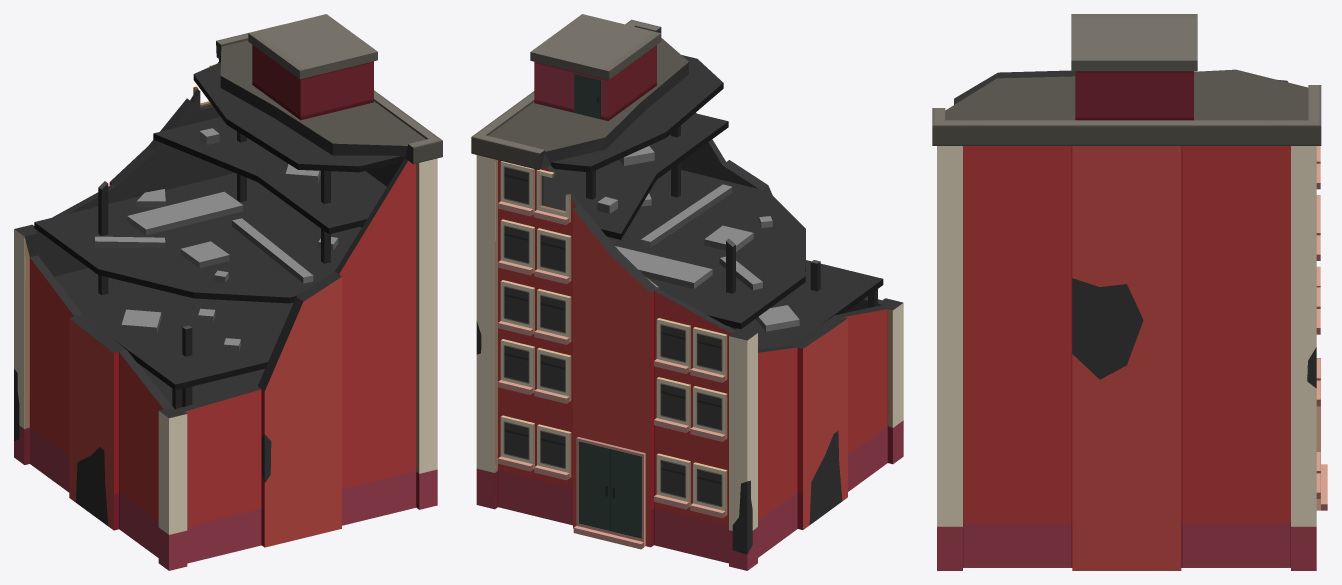
File: SM_Bld_Apartment_Damaged_02.gltf
3 renders of one model, left to right at view 1: azimuth 30°, elevation 25°; view 2: azimuth 150°, elevation 25°; view 3: azimuth 270°, elevation 25°, orthographic. The views are drawn at different scales.
Visible parts, largest first — view 1: SM_Bld_Apartment_Damaged_02; view 2: SM_Bld_Apartment_Damaged_02; view 3: SM_Bld_Apartment_Damaged_02.
Part boxes in pixels (bbox=[...]): SM_Bld_Apartment_Damaged_02: bbox=[14, 14, 442, 570]; SM_Bld_Apartment_Damaged_02: bbox=[471, 14, 903, 570]; SM_Bld_Apartment_Damaged_02: bbox=[932, 14, 1327, 570].
Size of the model in its own units: 11.49 by 16.75 by 11.82.
Materials: 1 (1 with a texture image).
